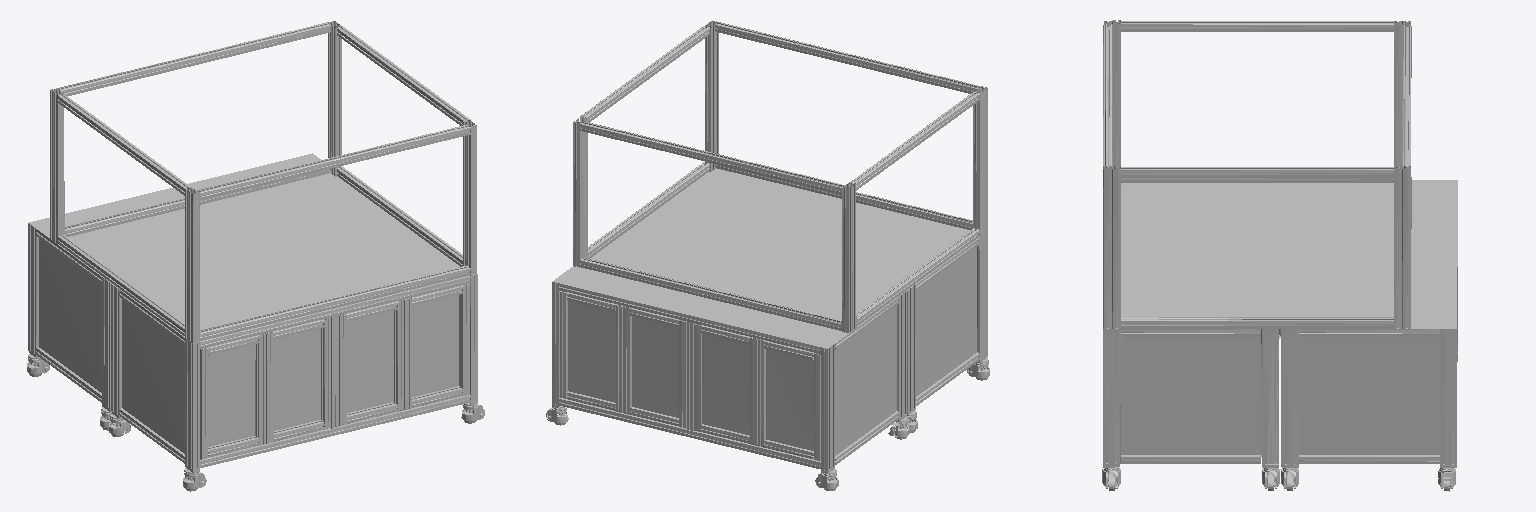
robot.urdf — table:
<?xml version="1.0"?>
<robot name="table">
  <link name="world">
    <visual>
      <origin rpy="0.0 0 1.57" xyz="-0.08 0.2 0.0"/>
      <geometry>
	  <mesh filename="package://rvc_dynamic_motion_controller_tradeshows/meshes/table.dae"/>
      </geometry>
    </visual>
  </link>
</robot>

--- Render facts (derived) ---
3 views of the same robot in one strip: view 1: azimuth 30°, elevation 25°; view 2: azimuth 150°, elevation 25°; view 3: azimuth 270°, elevation 25° (orthographic).
Model table with 1 links and 0 joints (none), rooted at world, posed every joint at zero.
Visible links, largest first — view 1: world; view 2: world; view 3: world.
Link boxes in pixels (box(x1,y1,x2,y2)): world: box(27, 21, 484, 491); world: box(546, 21, 989, 490); world: box(1102, 20, 1457, 491).
Bounding box of the posed robot: 1.69 × 1.61 × 1.6 m (x, y, z).
Meshes: 1 distinct files referenced, 1 mesh visuals loaded (1 Collada DAE).